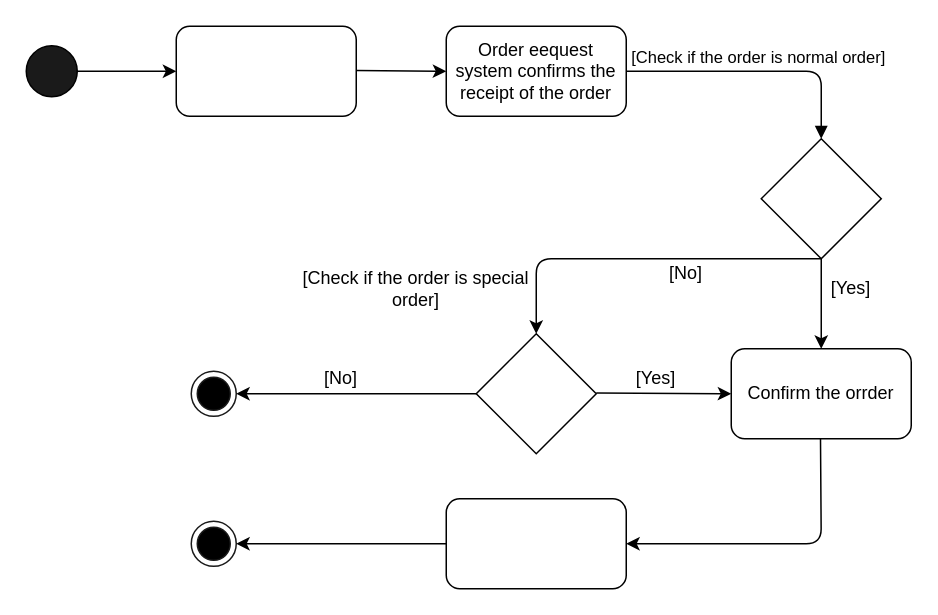
This 938x615 diagram has some shape labels left out. Each missing label, with the centre of its shape:
"Customer sends an order request" goes at point 265,70.
"Dispatch the order" goes at point 535,543.
